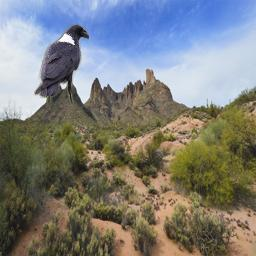Crow: (34, 24, 89, 103)
